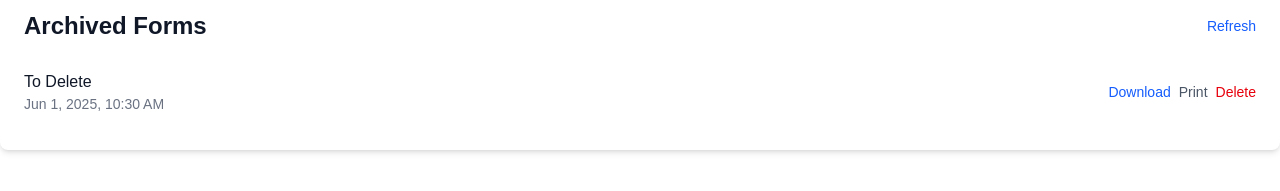
Test: FormArchive › deletes a form
Expected: the text "To Delete" is shown, [24,73,92,90]
Click the button with aria-label "Delete To Delete" at (1236, 92), box [1216,82,1256,102]
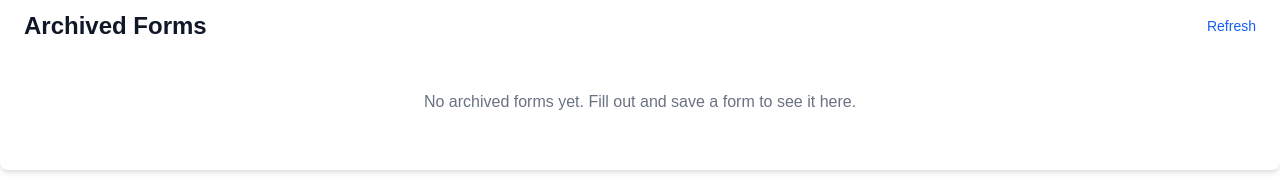
Expected: the button "To Delete" is gone
Expected: the text "No archived forms yet. Fill out and save a form to see it here." is shown, [424,93,856,110]
